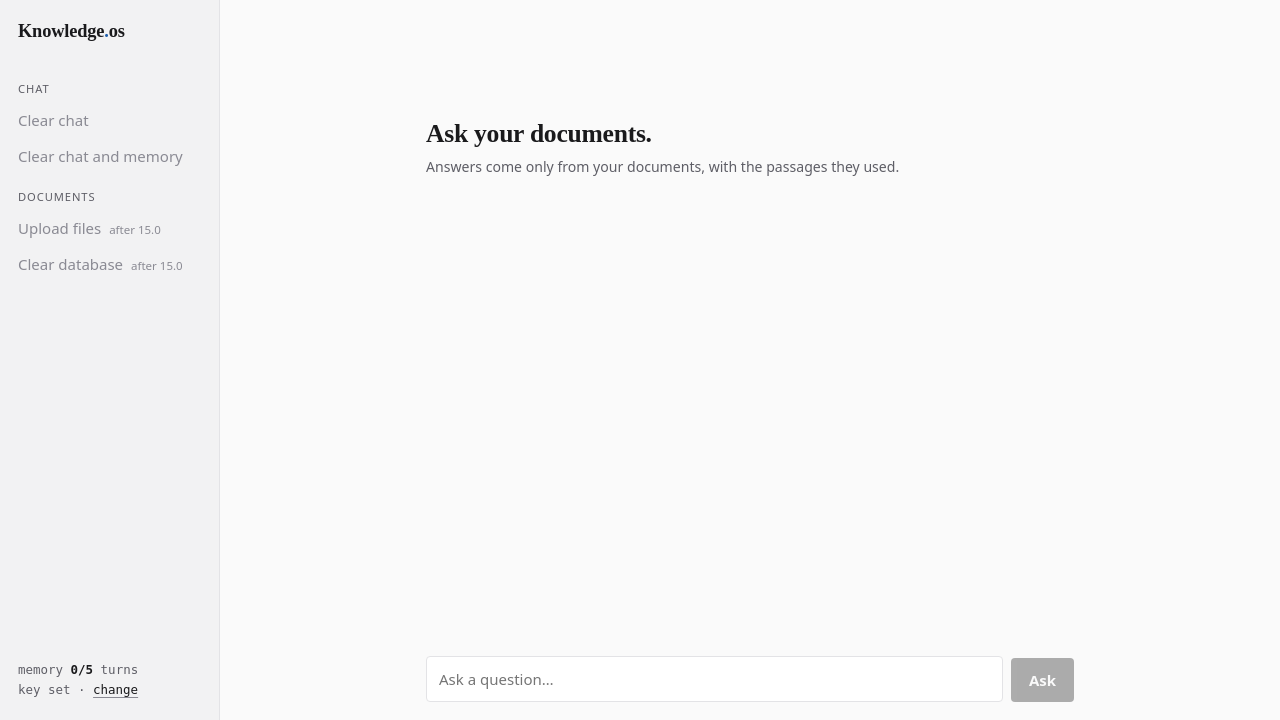
App › explains an answer that can no longer be rated
The width and height of the screenshot is (1280, 720).
Type "How do I change a tyre?" into the text box labelled "question".
click(714, 679); type("How do I change a tyre?")  # box [426,656,1003,702]
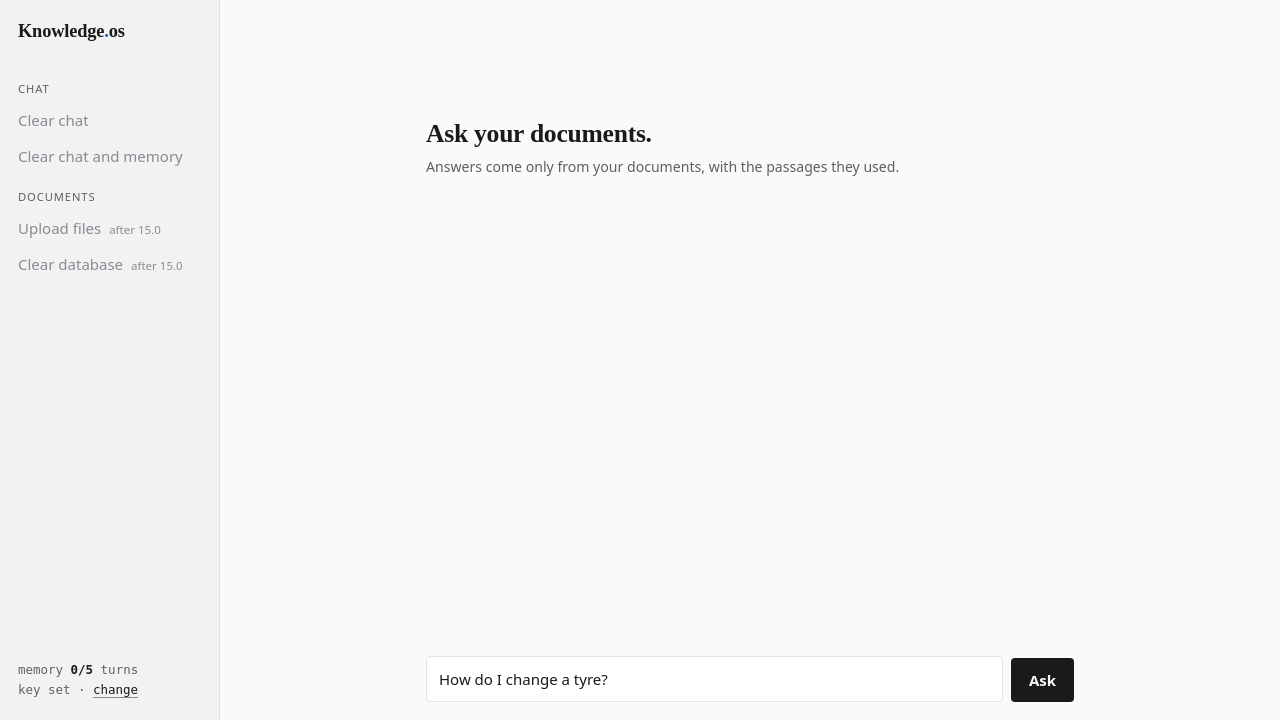
Click the button "Ask".
click(1042, 680)  # box [1011,658,1074,702]
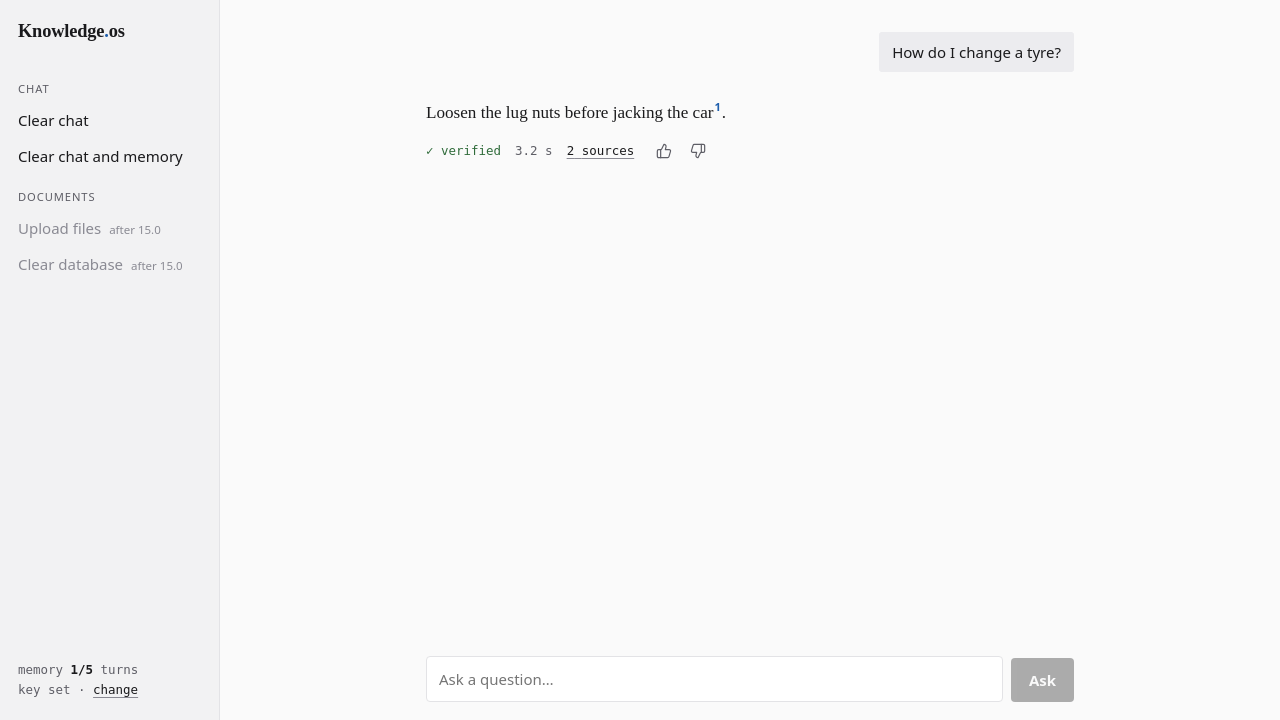
Click the button named "Helpful".
click(664, 151)  # box [648,135,680,167]
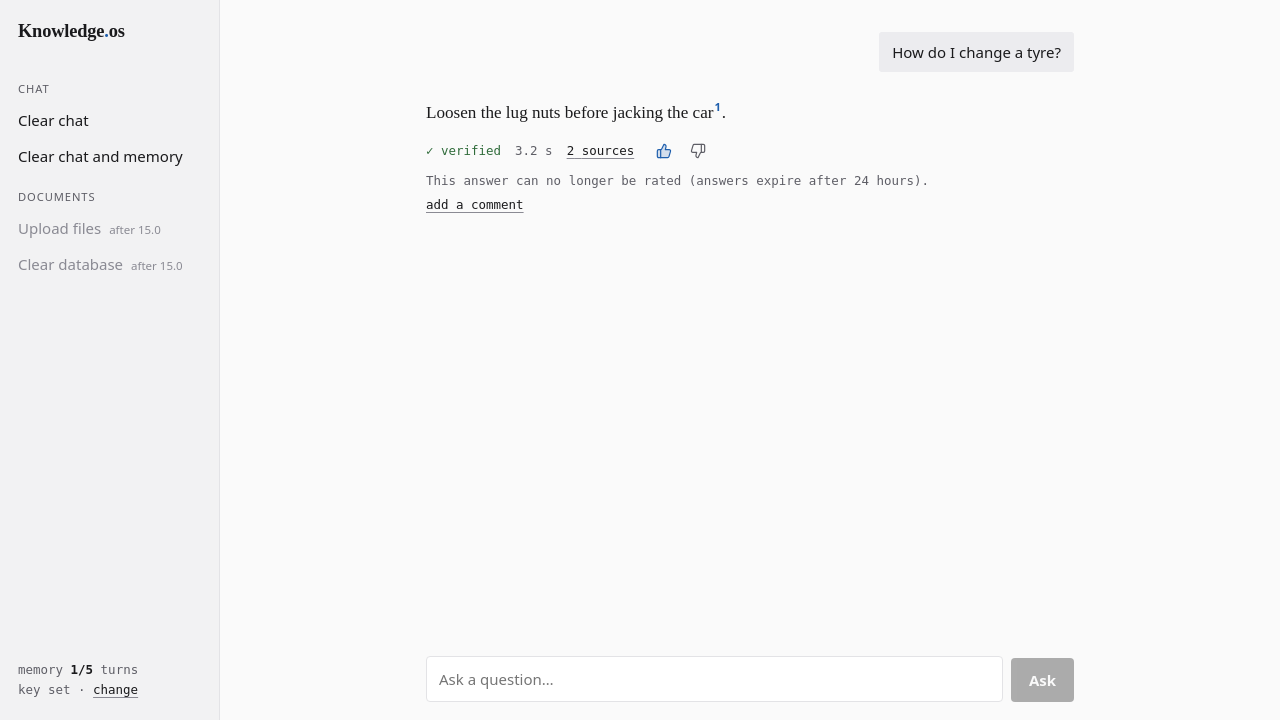
Check: the text "can no longer be rated" is shown, box [426,173,929,188]
